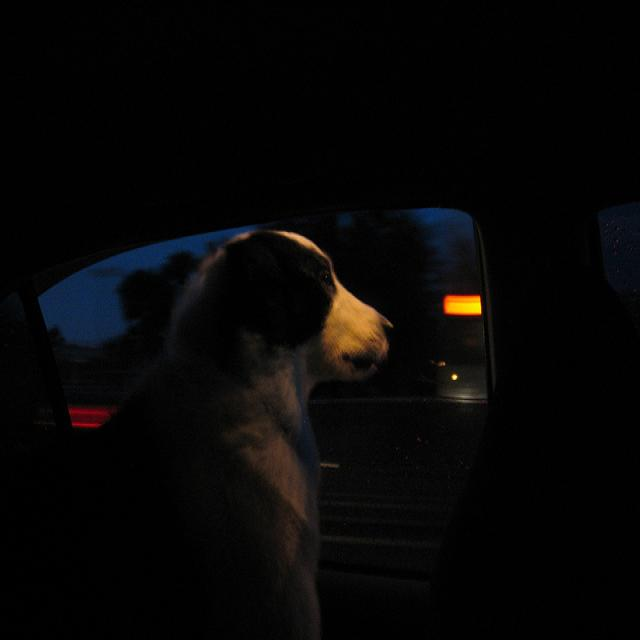Dog: (50, 192, 640, 639)
